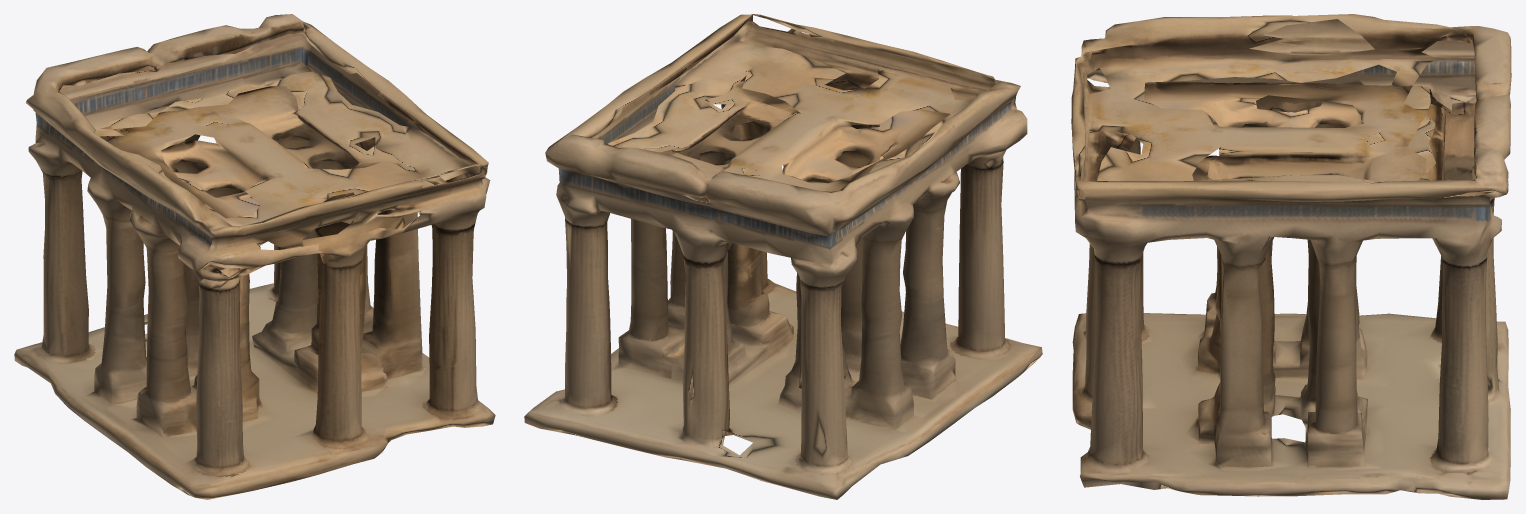
Rendered from temple.glb.
3 views of the same model, side by side, from view 1: azimuth 30°, elevation 25°; view 2: azimuth 150°, elevation 25°; view 3: azimuth 270°, elevation 25° (orthographic). The views are drawn at different scales.
Visible parts, largest first — view 1: geometry_0; view 2: geometry_0; view 3: geometry_0.
Part boxes in pixels (x1,y1,x2,y2): geometry_0: [14, 14, 495, 499]; geometry_0: [524, 14, 1042, 499]; geometry_0: [1071, 14, 1511, 499].
Size of the model in its own units: 0.9398 by 0.8195 by 1.
1 material, 1 textured.
